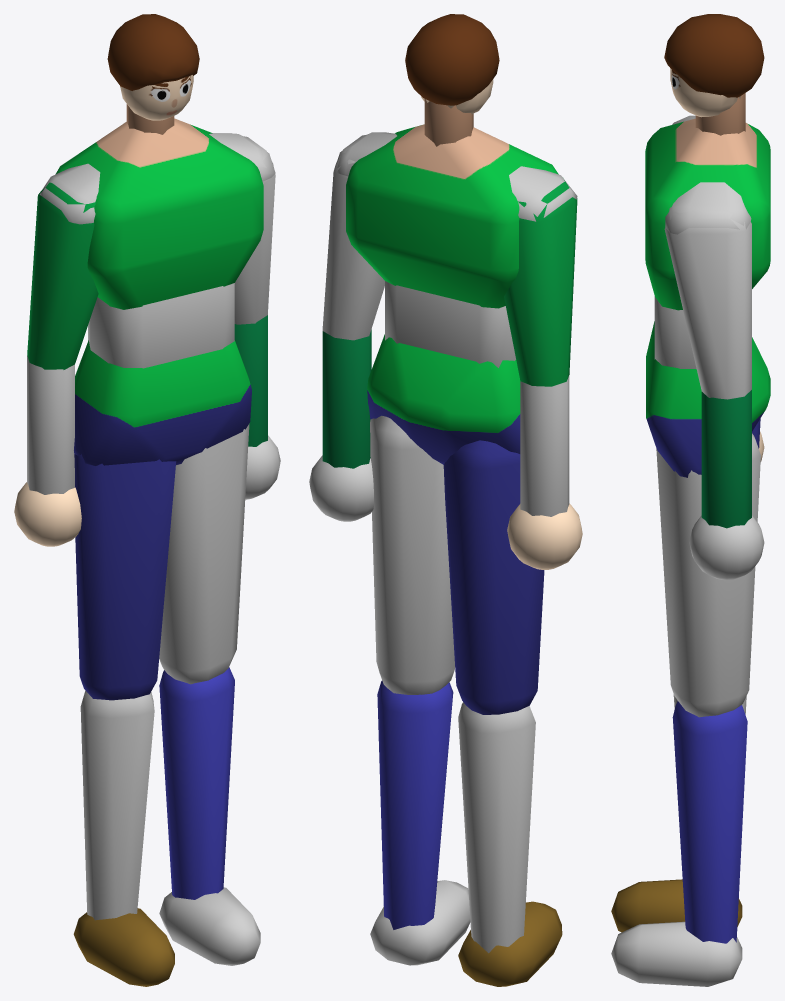
The model's file is LastLuna_Model_Player.fbx.
3 views of the same model, side by side, from view 1: azimuth 30°, elevation 25°; view 2: azimuth 150°, elevation 25°; view 3: azimuth 270°, elevation 25° (orthographic). The views are drawn at different scales.
Visible parts, largest first — view 1: Chest, Thigh_Right, Thigh_Left, Palvis, Calf_Left, Calf_Right, UpperArm_Right, Waist, LowerArm_Right, Feet_Right, Feet_Left, Hair (+7 smaller); view 2: Chest, Thigh_Right, Thigh_Left, Calf_Right, Calf_Left, Palvis, UpperArm_Right, Waist, Hair, LowerArm_Right, LowerArm_Left, UpperArm_Left (+6 smaller); view 3: Thigh_Left, Calf_Left, Chest, UpperArm_Left, Palvis, LowerArm_Left, Feet_Left, Hair, Hand_Left, Feet_Right, Shoulder, Waist (+2 smaller).
Part boxes in pixels (x1,y1,x2,y2): Chest: (55, 118, 263, 309); Thigh_Right: (74, 454, 176, 700); Thigh_Left: (159, 423, 249, 684); Palvis: (74, 340, 251, 465); Calf_Left: (159, 667, 234, 899); Calf_Right: (80, 690, 154, 920); UpperArm_Right: (27, 182, 98, 369); Waist: (88, 283, 234, 368); LowerArm_Right: (27, 356, 74, 494); Feet_Right: (73, 908, 174, 986); Feet_Left: (159, 887, 260, 965); Hair: (107, 14, 199, 90); Chest: (346, 124, 558, 308); Thigh_Right: (443, 440, 544, 714); Thigh_Left: (370, 415, 455, 694); Calf_Right: (458, 702, 535, 953); Calf_Left: (377, 680, 453, 929); Palvis: (367, 334, 520, 464); UpperArm_Right: (504, 180, 577, 386); Waist: (385, 281, 515, 367); Hair: (405, 14, 499, 105); LowerArm_Right: (520, 375, 569, 516); LowerArm_Left: (322, 329, 371, 468); UpperArm_Left: (322, 134, 384, 340); Thigh_Left: (656, 433, 760, 717); Calf_Left: (672, 701, 747, 943); Chest: (645, 118, 770, 310); UpperArm_Left: (664, 206, 751, 399); Palvis: (646, 321, 770, 477); LowerArm_Left: (701, 390, 751, 528); Feet_Left: (611, 921, 742, 986); Hair: (664, 14, 764, 97); Hand_Left: (689, 515, 764, 580); Feet_Right: (611, 879, 742, 932); Shoulder: (665, 115, 751, 234); Waist: (654, 296, 696, 368).
Bounding box in the file's own units: 24 × 83 × 12.73.
